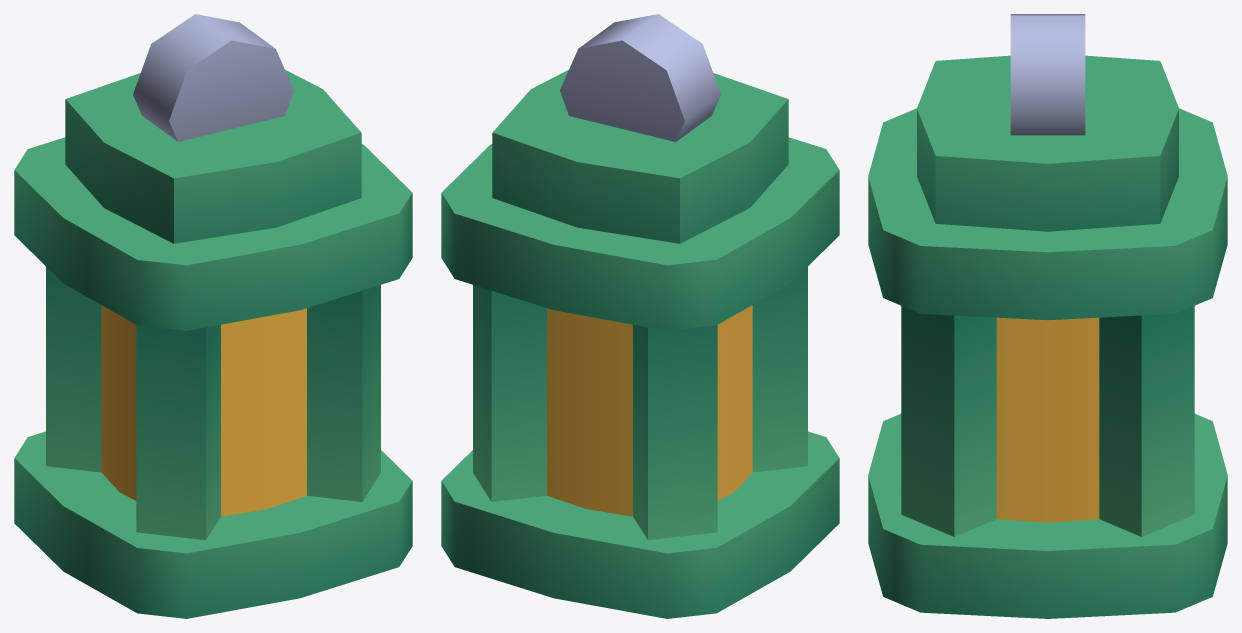
Rendered from lantern-glass.glb.
3 views of the same model, side by side, from view 1: azimuth 30°, elevation 25°; view 2: azimuth 150°, elevation 25°; view 3: azimuth 270°, elevation 25° (orthographic). The views are drawn at different scales.
Parts seen in each view (by area): view 1: lantern-glass; view 2: lantern-glass; view 3: lantern-glass.
Part boxes in pixels (bbox=[...]): lantern-glass: bbox=[14, 14, 412, 618]; lantern-glass: bbox=[441, 14, 839, 618]; lantern-glass: bbox=[868, 14, 1227, 618].
Bounding box in the file's own units: 4.8 × 7.75 × 4.8.
1 material, 1 textured.
